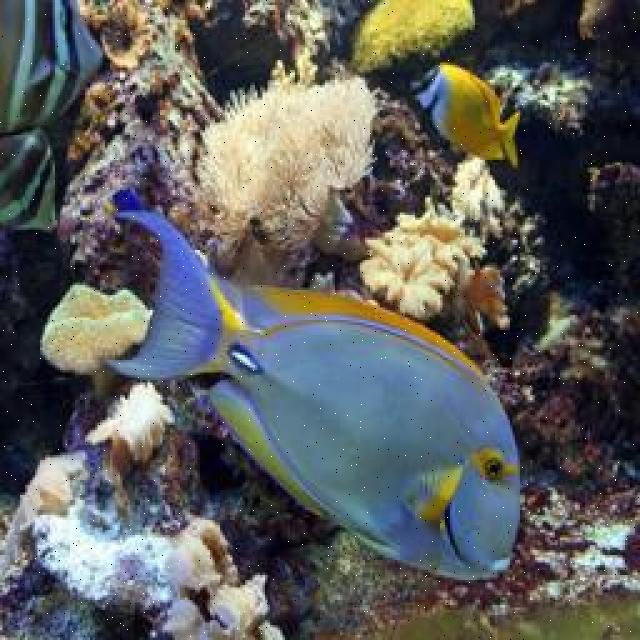fish: (106, 211, 522, 581), (408, 61, 520, 166), (0, 128, 57, 230)
reefs: (190, 77, 373, 251), (359, 157, 510, 327), (37, 284, 150, 393), (353, 0, 475, 75)
